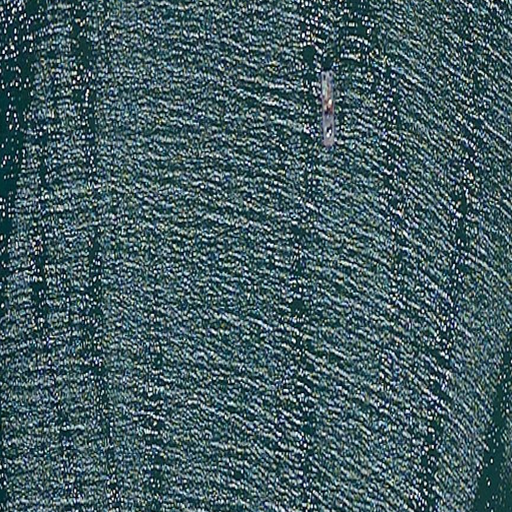ship: (320, 68, 336, 149)
